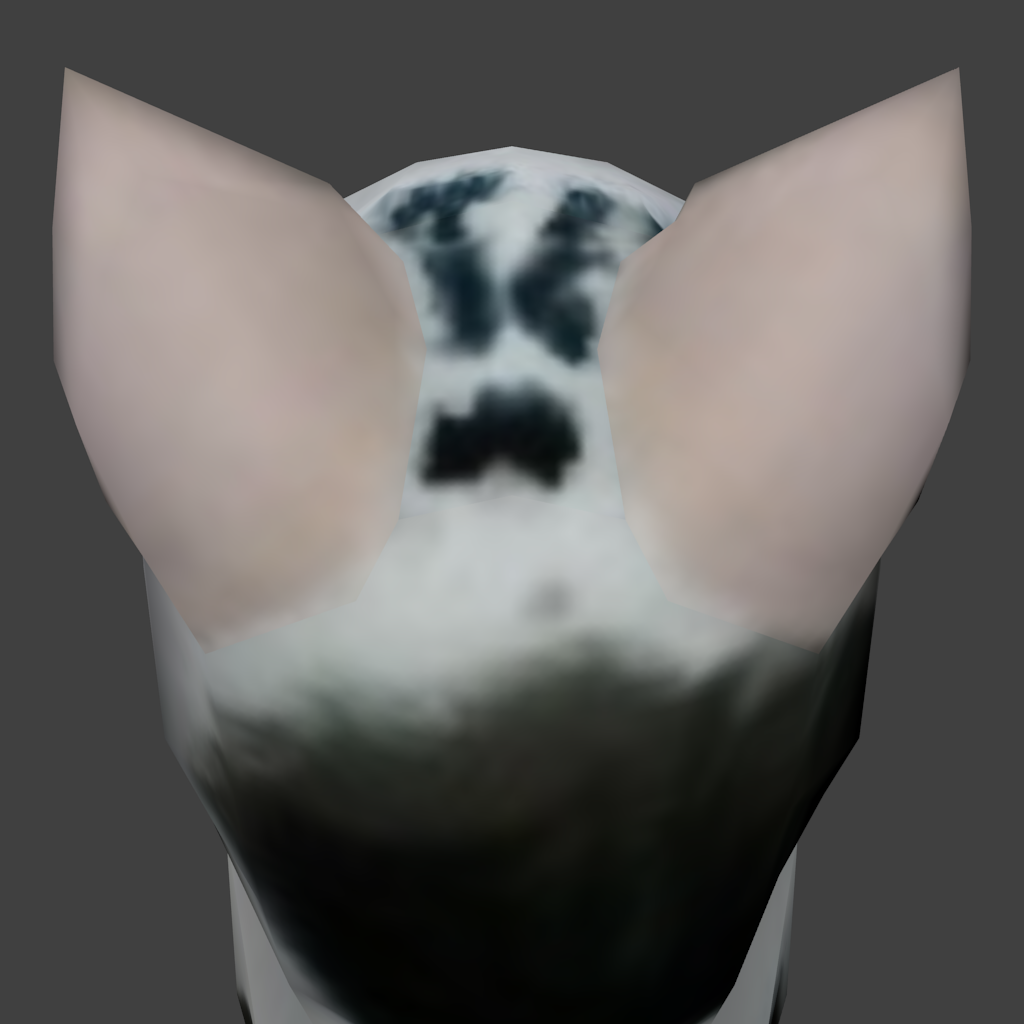Cat: (52, 67, 919, 957)
